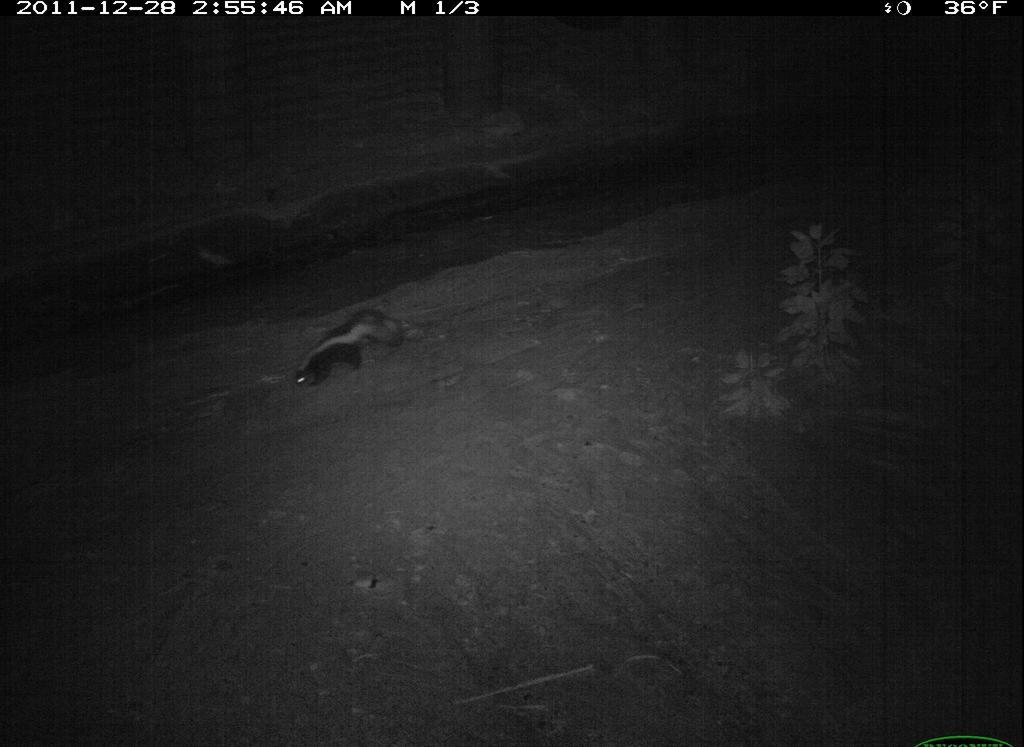skunk: (258, 283, 454, 410)
